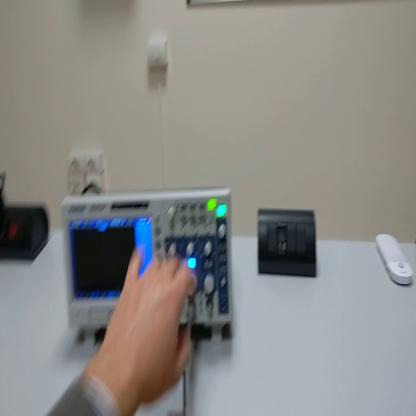hand: (101, 246, 196, 404)
oscilloscope: (56, 190, 236, 360)
socket: (2, 204, 51, 261)
